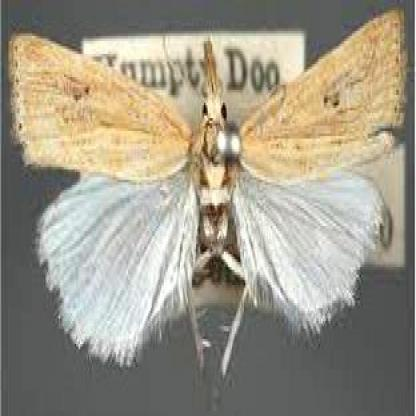stem-borer: (7, 4, 411, 388)
